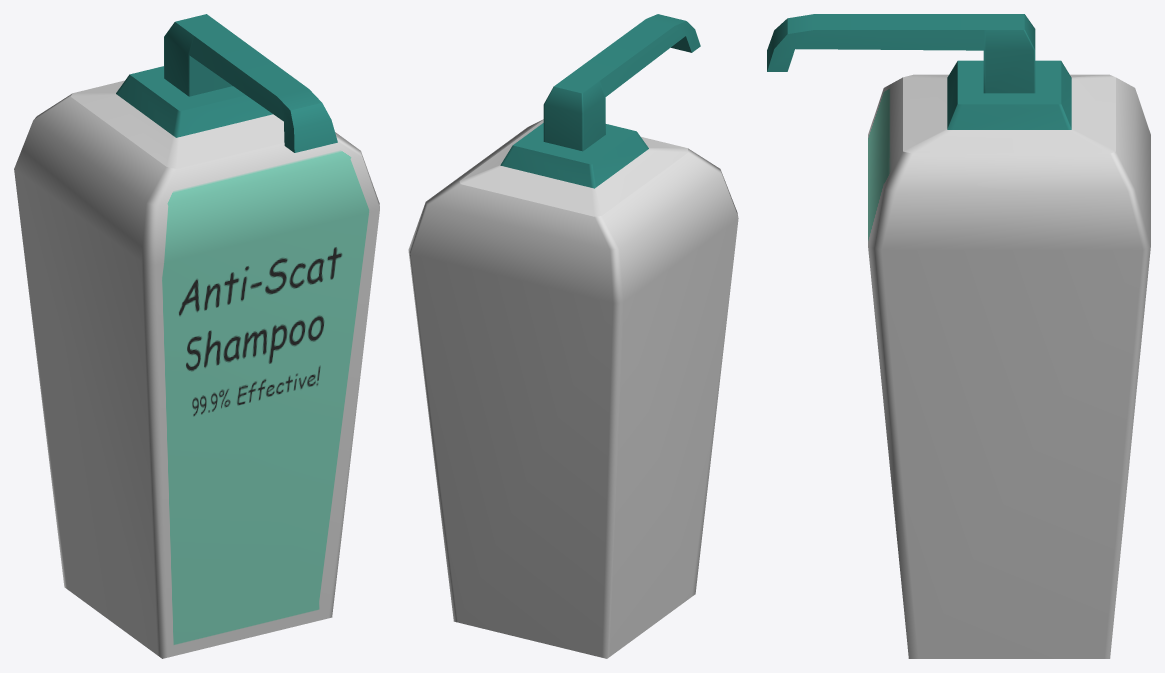
File: building_scatshampoo.fbx
The picture shows the model from 3 angles, left to right: view 1: azimuth 30°, elevation 25°; view 2: azimuth 150°, elevation 25°; view 3: azimuth 270°, elevation 25°; orthographic projection. The views are drawn at different scales.
Visible parts, largest first — view 1: Shampoo; view 2: Shampoo; view 3: Shampoo.
Part boxes in pixels (box(x1,y1,x2,y2)): Shampoo: box(14, 14, 379, 658); Shampoo: box(408, 14, 738, 658); Shampoo: box(767, 14, 1150, 658).
Size of the model in its own units: 11.79 by 27.36 by 16.01.
Materials: 1 (1 with a texture image).
